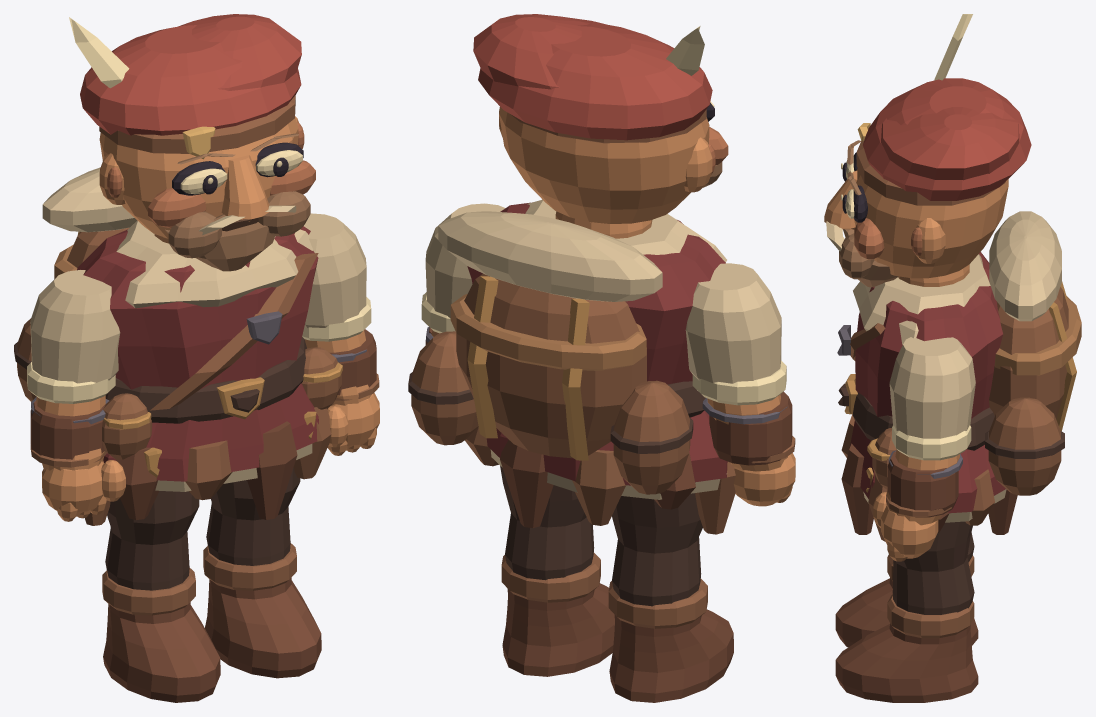
The model's file is CaravanMerchant.obj.
The picture shows the model from 3 angles, left to right: view 1: azimuth 30°, elevation 25°; view 2: azimuth 150°, elevation 25°; view 3: azimuth 270°, elevation 25°; orthographic projection. The views are drawn at different scales.
Visible parts, largest first — view 1: Body, ArmL, LegL, LegR, ArmR; view 2: Body, LegL, ArmL, LegR, ArmR; view 3: Body, LegR, ArmR, LegL.
Part boxes in pixels (x1,y1,x2,y2): Body: (14,14,342,525); ArmL: (27,270,125,521); LegL: (102,491,220,702); LegR: (203,467,321,678); ArmR: (302,213,379,455); Body: (408,14,735,534); LegL: (608,493,733,702); ArmL: (685,263,795,506); LegR: (500,466,614,676); ArmR: (421,203,505,344); Body: (824,14,1081,541); LegR: (835,521,978,702); ArmR: (873,337,975,561); LegL: (835,532,978,647).
Bounding box in the file's own units: 1.1 × 2 × 0.7808.
1 material, 1 textured.
